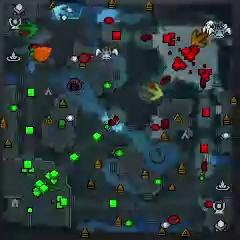p5: (34, 46, 52, 62)
x2: (144, 81, 163, 101)
x3: (53, 4, 72, 20)
x4: (18, 20, 39, 38)
x5: (191, 29, 209, 48)
